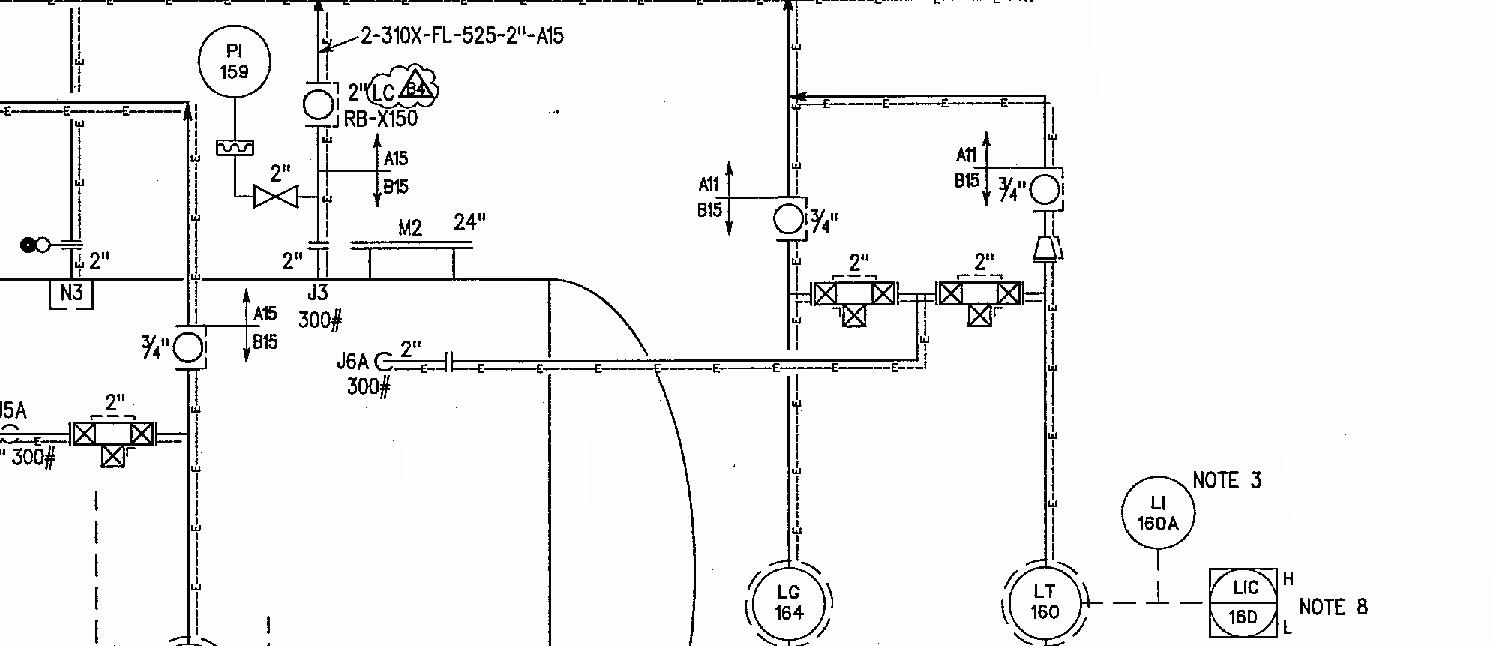2 WAY VALVE: (69, 414, 160, 477), (925, 272, 1021, 331), (808, 275, 902, 330)
CONCENTRIC REDUCER: (1029, 233, 1071, 265)
CONNECTOR: (367, 350, 395, 376), (307, 235, 335, 254)
DIAPHRAGM SEAL: (213, 135, 261, 159)
END FLANGED: (440, 345, 461, 379)
FIELD INSTRUMENT: (737, 555, 838, 646), (999, 555, 1090, 646), (1110, 470, 1203, 552), (1200, 564, 1282, 646), (193, 21, 275, 101), (167, 325, 207, 374), (768, 197, 809, 242), (298, 83, 341, 125), (1027, 167, 1066, 211)
GATE VALVE: (245, 181, 301, 212)
REVISION TRIANGLE: (394, 66, 452, 101)
SPECTACLE BLIND OPEN: (16, 233, 88, 255)
